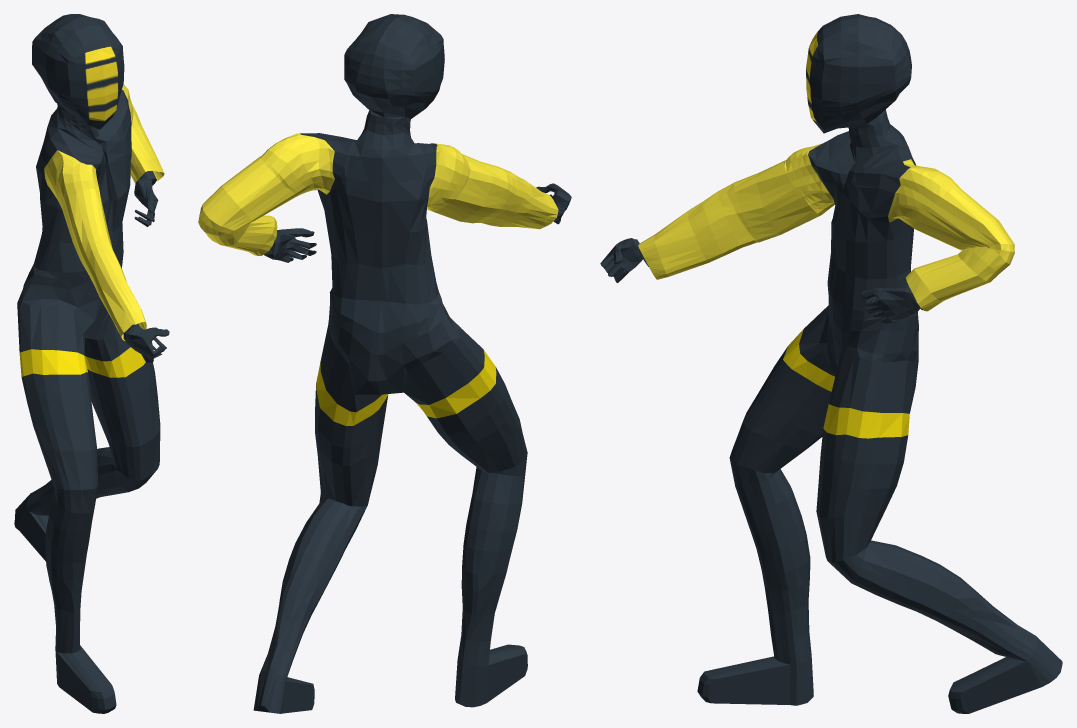
The model's file is Sentry_WF_000006.obj.
3 views of the same model, side by side, from view 1: azimuth 30°, elevation 25°; view 2: azimuth 150°, elevation 25°; view 3: azimuth 270°, elevation 25° (orthographic). The views are drawn at different scales.
Parts seen in each view (by area): view 1: Cube; view 2: Cube; view 3: Cube.
Boxes of the visible parts, <box> form: Cube: <box>14,14,169,713</box>; Cube: <box>198,14,571,713</box>; Cube: <box>600,14,1062,713</box>.
Size of the model in its own units: 1.17 by 3.72 by 2.21.
